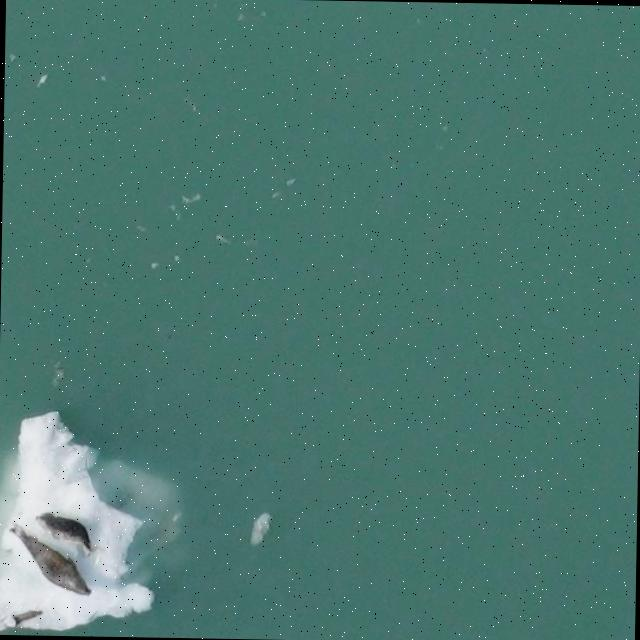seal: (0, 517, 101, 607), (33, 510, 97, 551)
